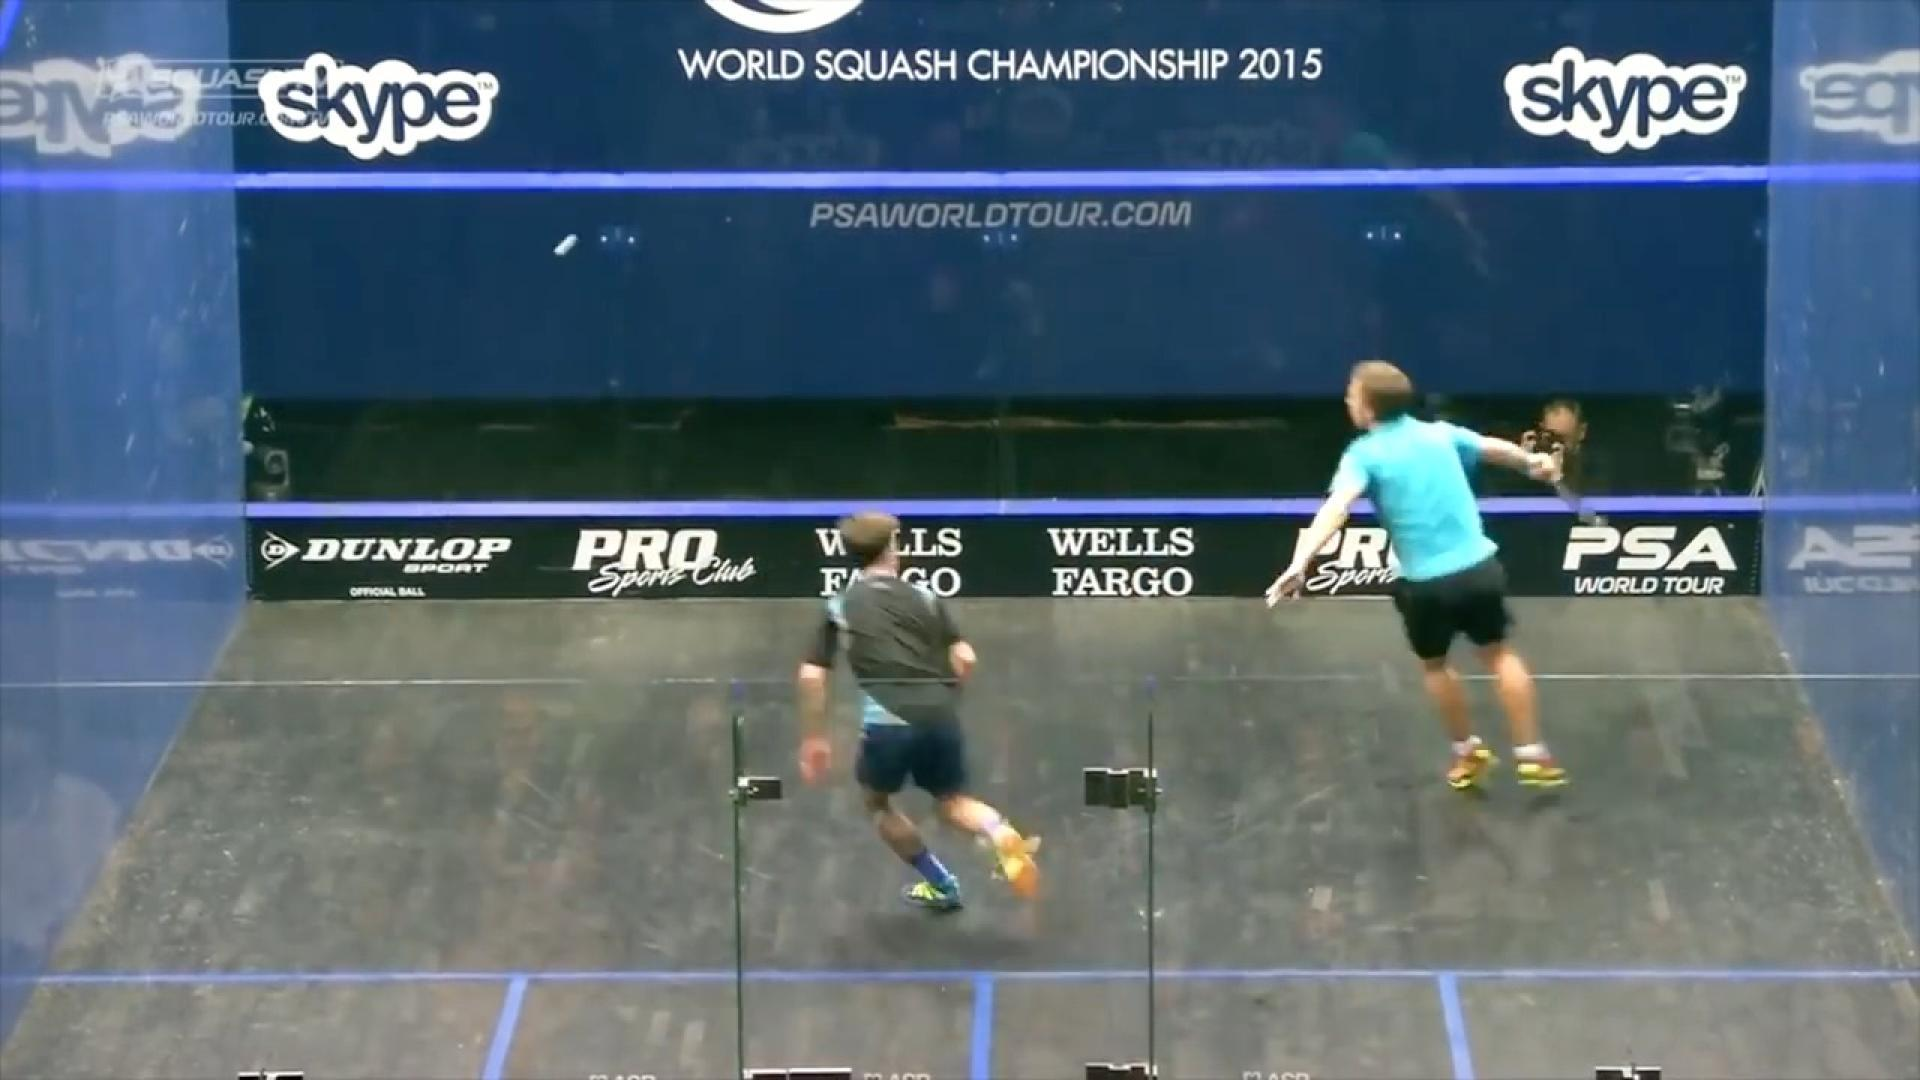Squash-Ball: (522, 225, 592, 276)
